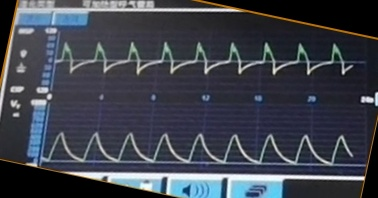Accumulation Flow: (61, 35, 353, 93)
Volume: (49, 119, 351, 170)
